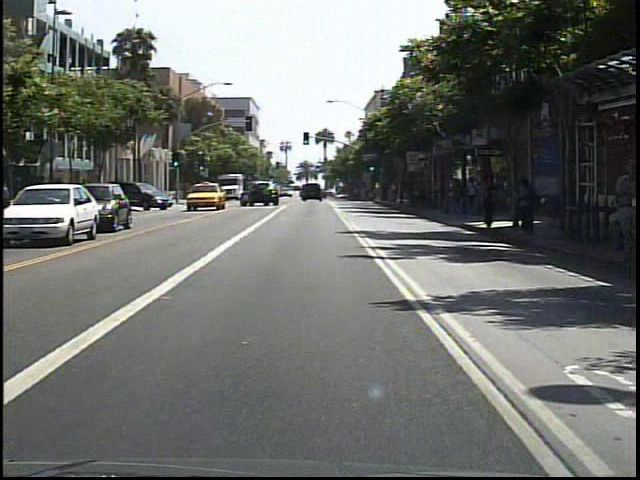person: (483, 164, 507, 233), (516, 176, 540, 242), (468, 175, 484, 216)
